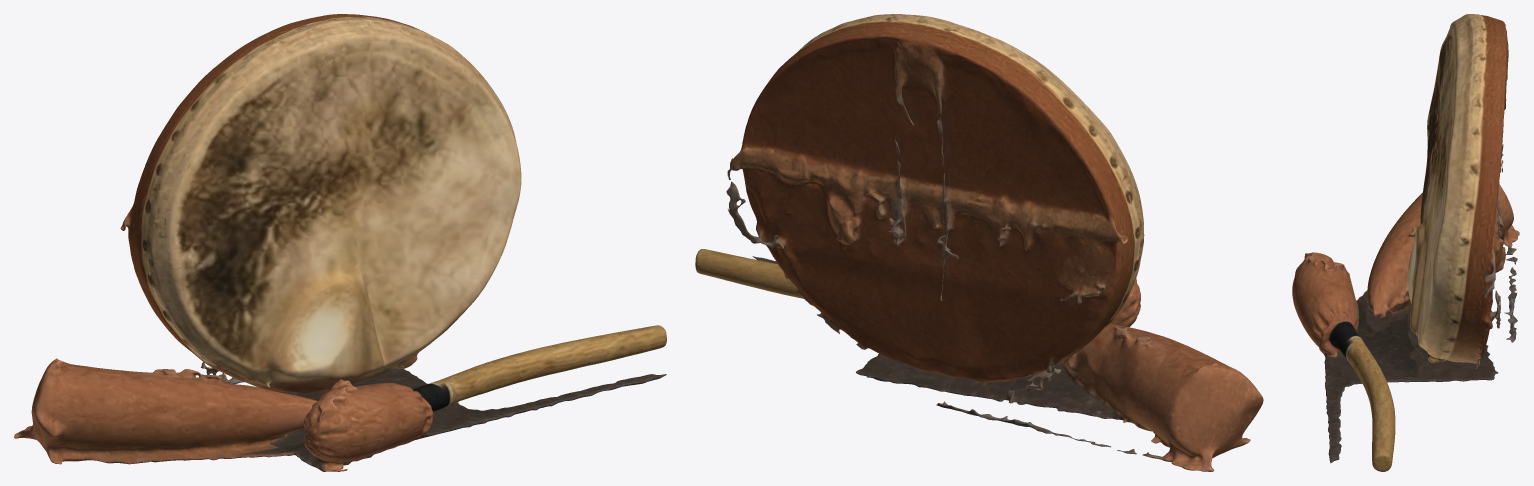
File: dog dog.glb
3 renders of one model, left to right at view 1: azimuth 30°, elevation 25°; view 2: azimuth 150°, elevation 25°; view 3: azimuth 270°, elevation 25°, orthographic. The views are drawn at different scales.
Visible parts, largest first — view 1: mesh_node; view 2: mesh_node; view 3: mesh_node.
Boxes of the visible parts, x1,y1,x2,y2 form: mesh_node: (14,14,666,471); mesh_node: (695,14,1263,471); mesh_node: (1292,14,1519,471).
Size of the model in its own units: 1.9 by 1.11 by 0.7137.
1 material, 1 textured.
